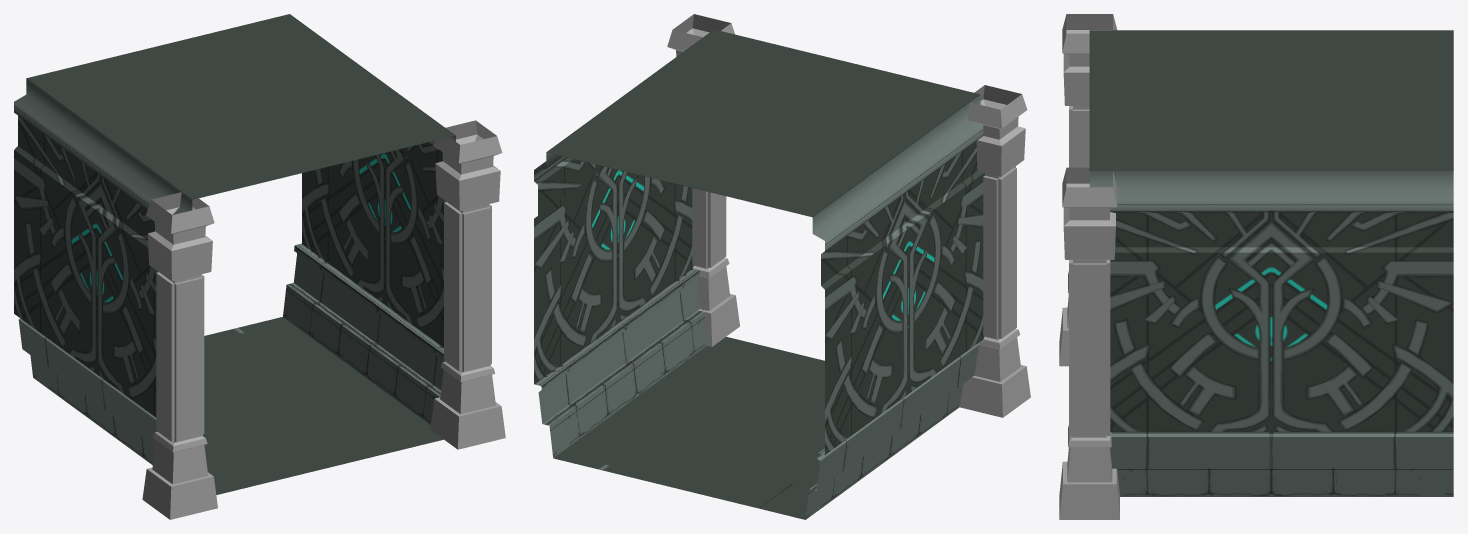
Rendered from Up_Corridor.fbx.
3 renders of one model, left to right at view 1: azimuth 30°, elevation 25°; view 2: azimuth 150°, elevation 25°; view 3: azimuth 270°, elevation 25°, orthographic. The views are drawn at different scales.
Visible parts, largest first — view 1: corridor3, Pillar, Pillar6; view 2: corridor3, Pillar, Pillar6; view 3: corridor3, Pillar6, Pillar.
Part boxes in pixels (bbox=[...]): corridor3: bbox=[14, 14, 455, 494]; Pillar: bbox=[142, 192, 217, 519]; Pillar6: bbox=[430, 120, 505, 449]; corridor3: bbox=[534, 29, 984, 519]; Pillar: bbox=[959, 85, 1030, 417]; Pillar6: bbox=[667, 14, 739, 346]; corridor3: bbox=[1089, 30, 1453, 496]; Pillar6: bbox=[1059, 167, 1119, 519]; Pillar: bbox=[1059, 14, 1117, 366].
Size of the model in its own units: 350 by 300 by 325.
2 materials, 1 textured.
